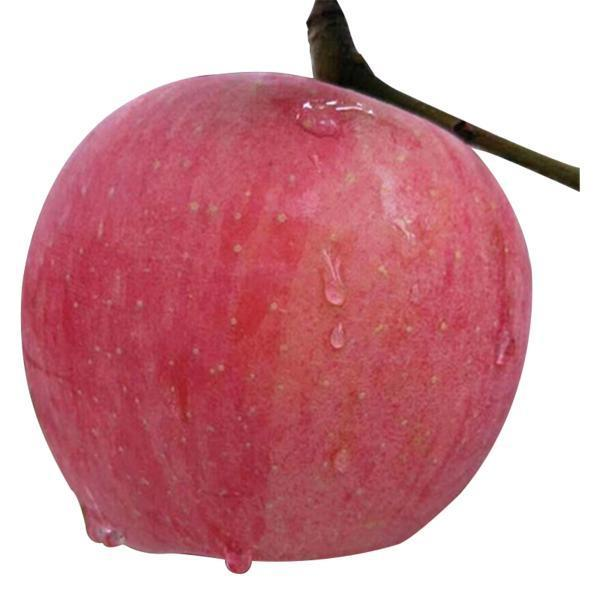apple: (18, 65, 535, 567)
